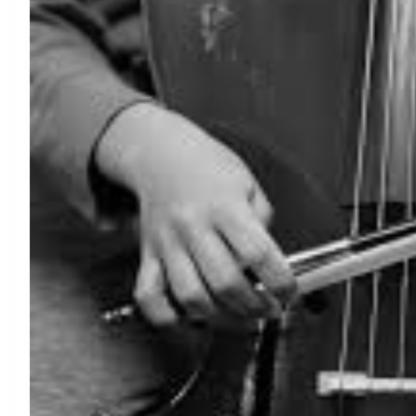bad: (108, 176, 301, 335)
